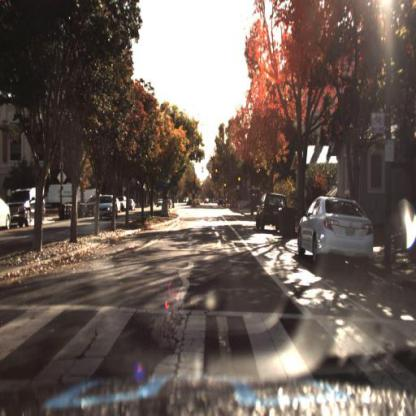car: (294, 192, 377, 269), (8, 183, 48, 229), (252, 192, 283, 231), (94, 192, 118, 217), (0, 195, 12, 235), (129, 195, 137, 211), (116, 198, 122, 215), (122, 193, 126, 213)
trafficLight: (212, 162, 219, 178)
trafficLight-Red: (237, 170, 242, 187), (222, 177, 227, 192)
trafficLight-RedLeft: (190, 177, 198, 193)
trafficLight-Yellow: (235, 172, 243, 184), (222, 180, 229, 188)
